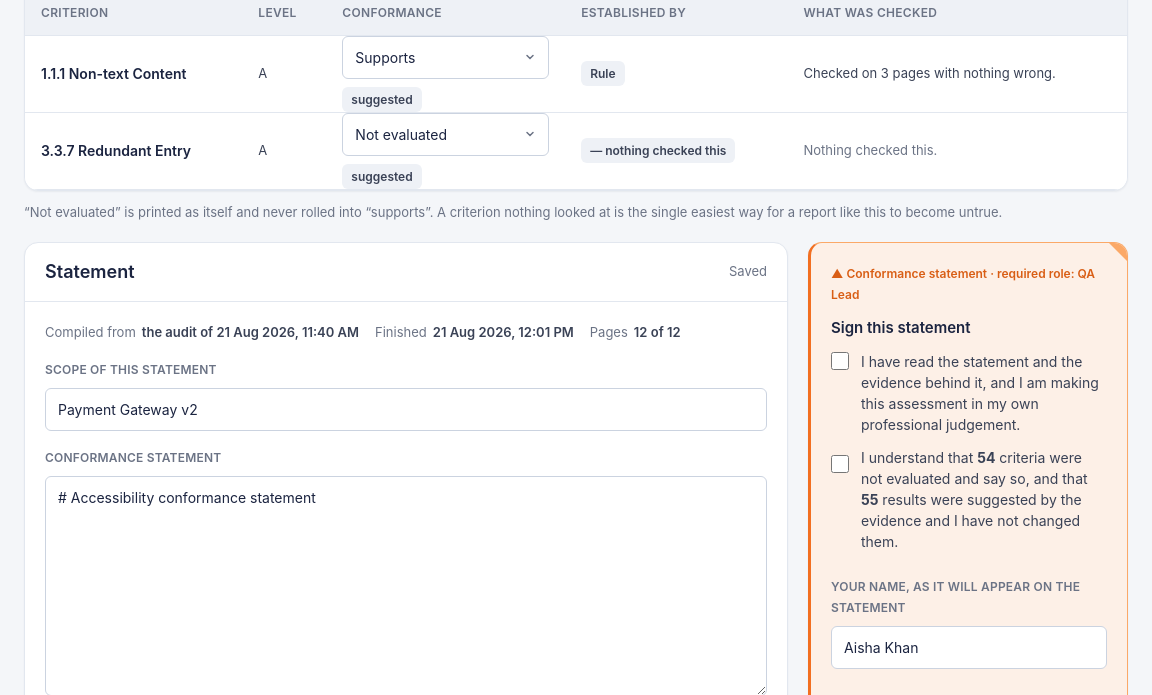
Test case: A save that fails speaks the product's language, not the browser's › a refusal in words is kept exactly as the server wrote it
The width and height of the screenshot is (1152, 695).
(page scrolled)
Click the 1st checkbox: (840, 361) top-left (831, 352), bottom-right (849, 370)
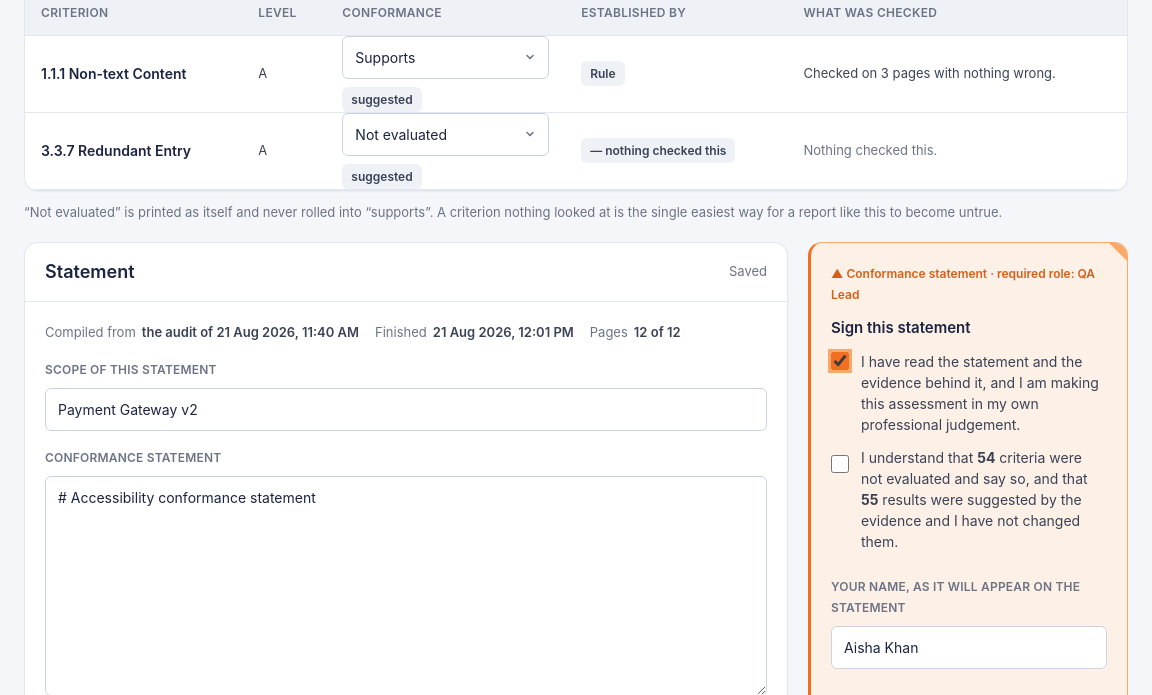
Click the 2nd checkbox: (840, 464) top-left (831, 455), bottom-right (849, 473)
(page scrolled)
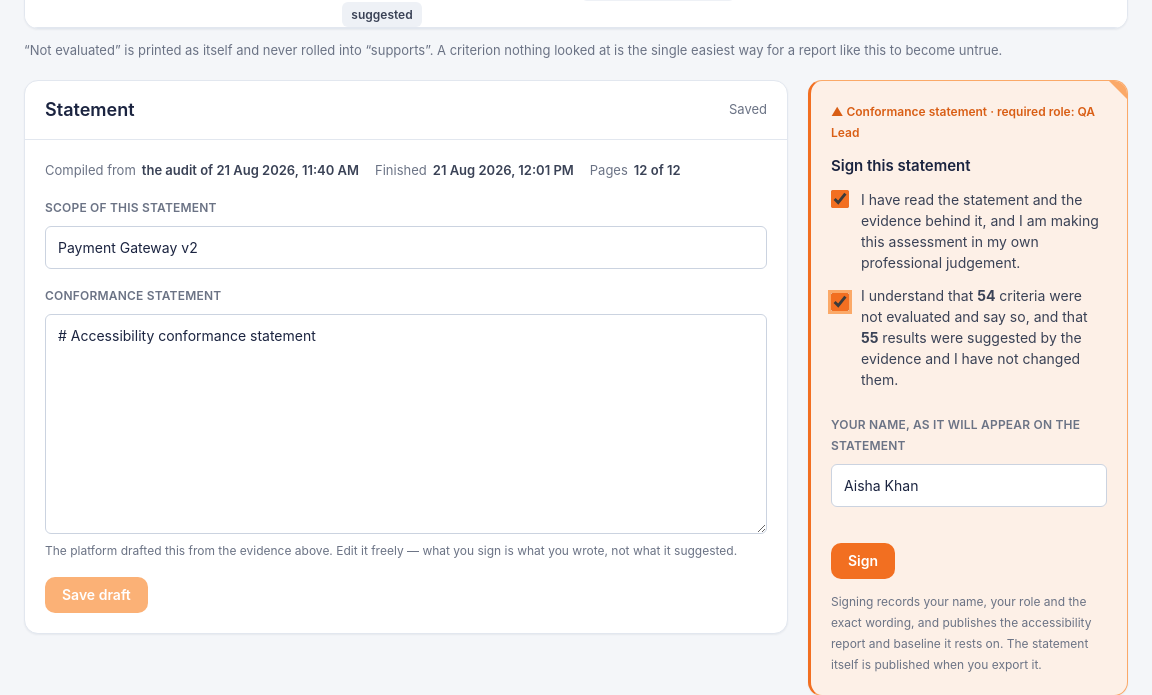
Click the button "Sign": (863, 561) top-left (831, 543), bottom-right (895, 579)
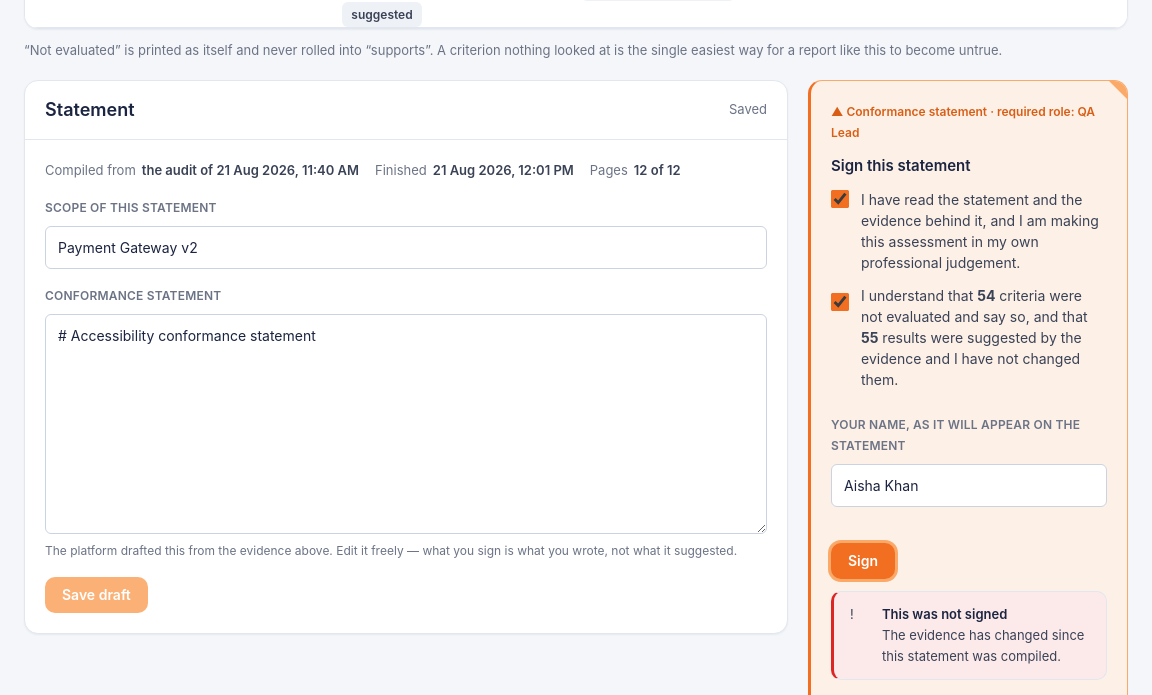
expect the text "The evidence has changed since this statement was compiled." is shown: met, box top-left (882, 627), bottom-right (1084, 664)
